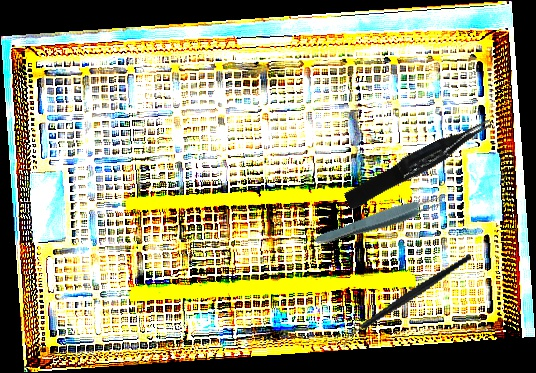Chopper: (329, 253, 485, 350)
Tissue Forceps: (340, 115, 499, 211), (312, 189, 452, 251)
